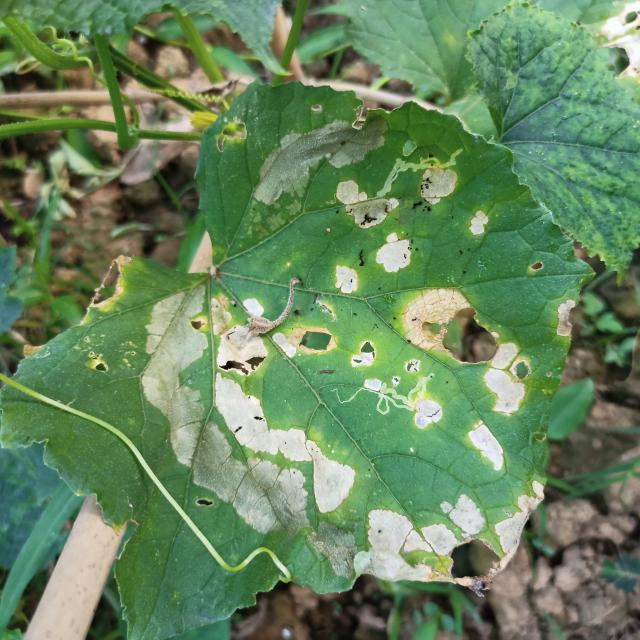disease_cucumber: (139, 286, 356, 556), (358, 289, 549, 594), (258, 127, 495, 289)
